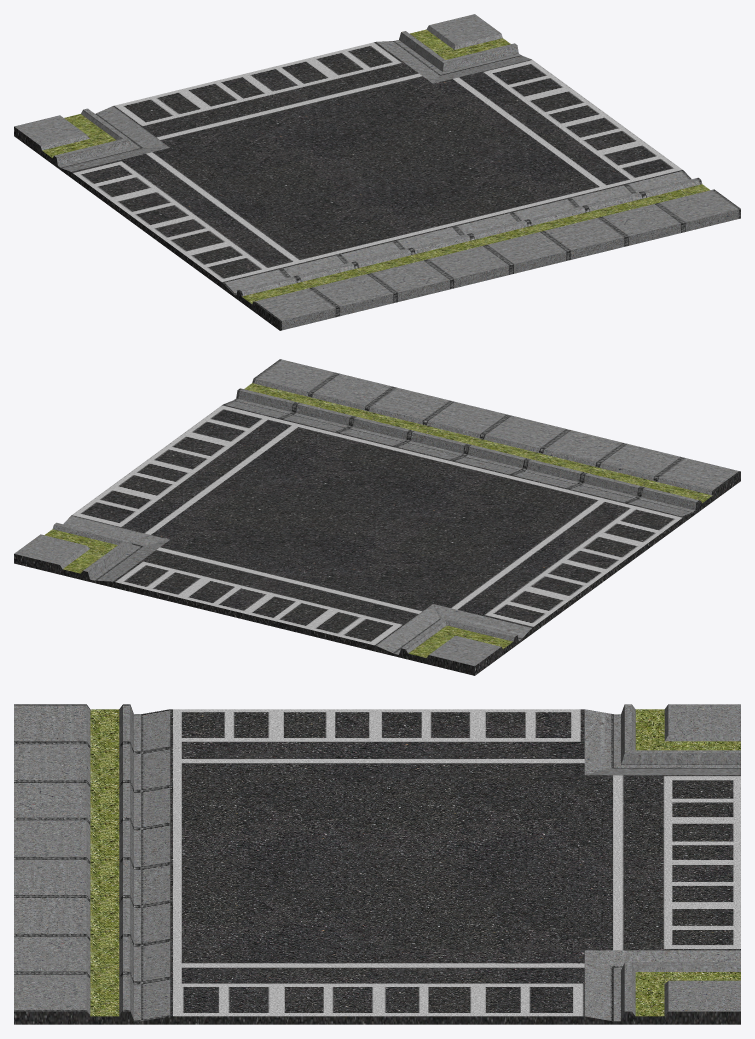
The model's file is Road-2-Lane-T.obj.
3 views of the same model, one above another, from view 1: azimuth 30°, elevation 25°; view 2: azimuth 150°, elevation 25°; view 3: azimuth 270°, elevation 25° (orthographic). The views are drawn at different scales.
Visible parts, largest first — view 1: Road_2_Lane_T; view 2: Road_2_Lane_T; view 3: Road_2_Lane_T.
Boxes of the visible parts, x1,y1,x2,y2 form: Road_2_Lane_T: (14,14,740,330); Road_2_Lane_T: (14,359,740,675); Road_2_Lane_T: (14,704,740,1024).
Size of the model in its own units: 3600 by 72 by 3600.
Materials: 1 (1 with a texture image).
